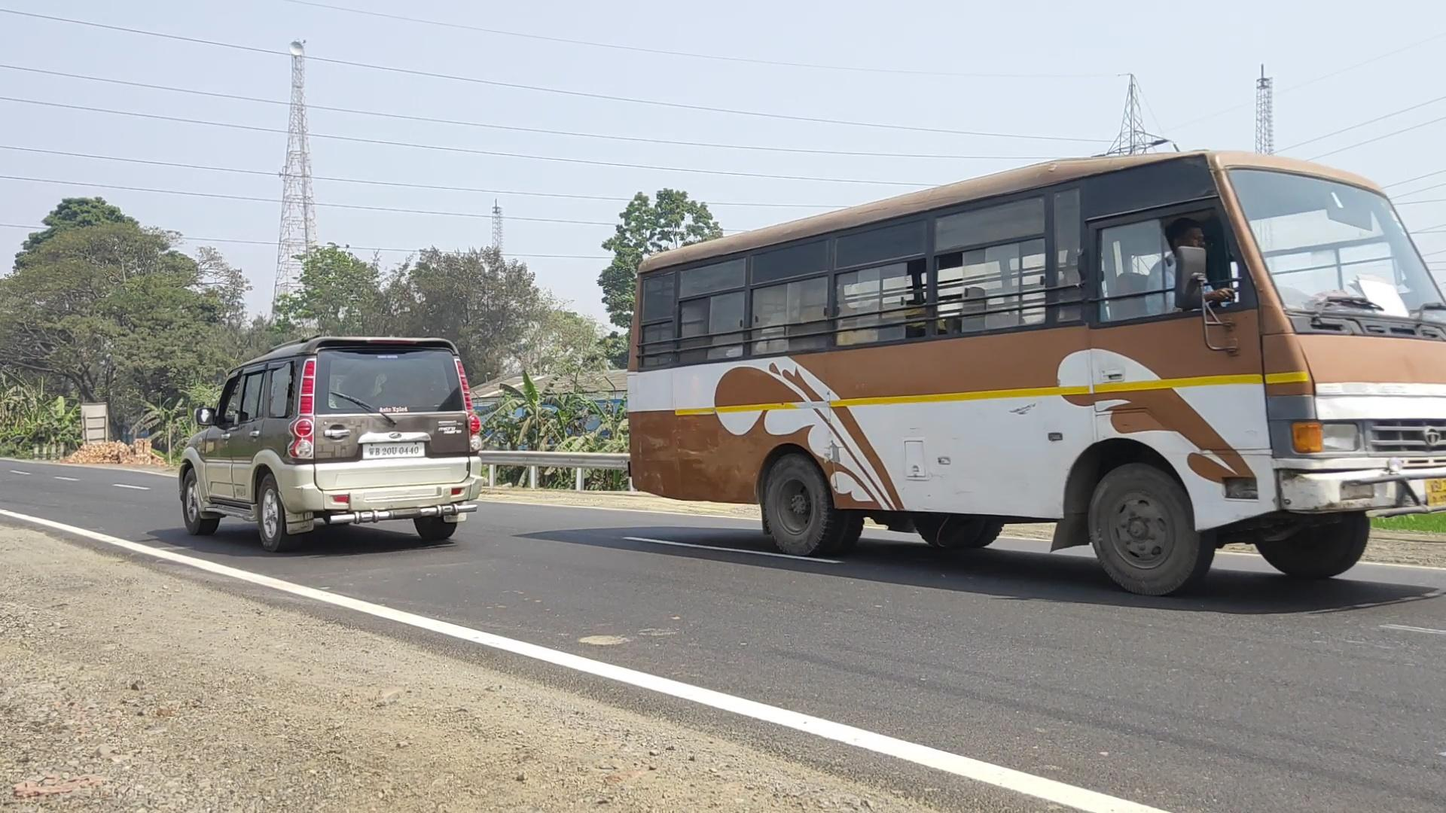Bus: (626, 151, 1446, 597)
car: (178, 335, 485, 553)
